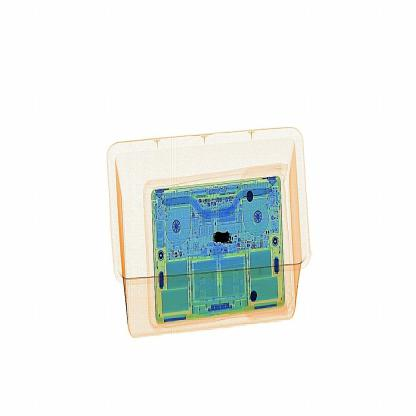scissors: (209, 224, 244, 259)
